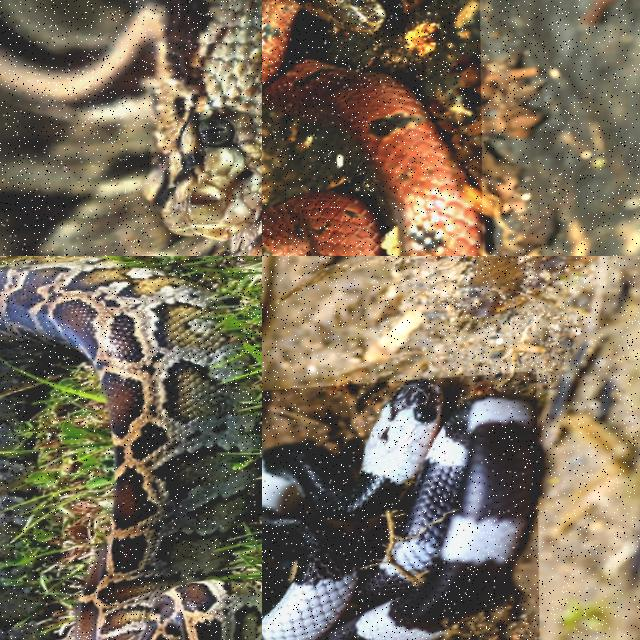Bungarus candidus: (262, 380, 538, 639)
Calliophis maculiceps: (262, 0, 482, 255)
Calloselasma rhodostoma: (0, 0, 261, 255)
Python bivittatus: (0, 257, 261, 639)
